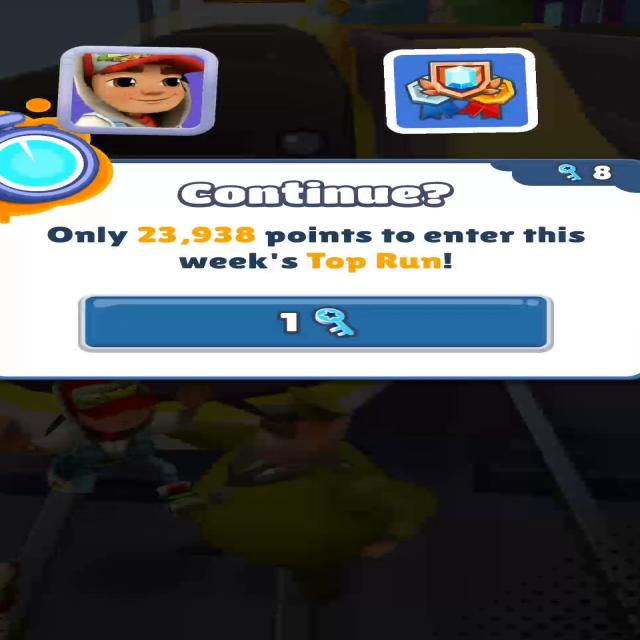police: (171, 389, 434, 599)
